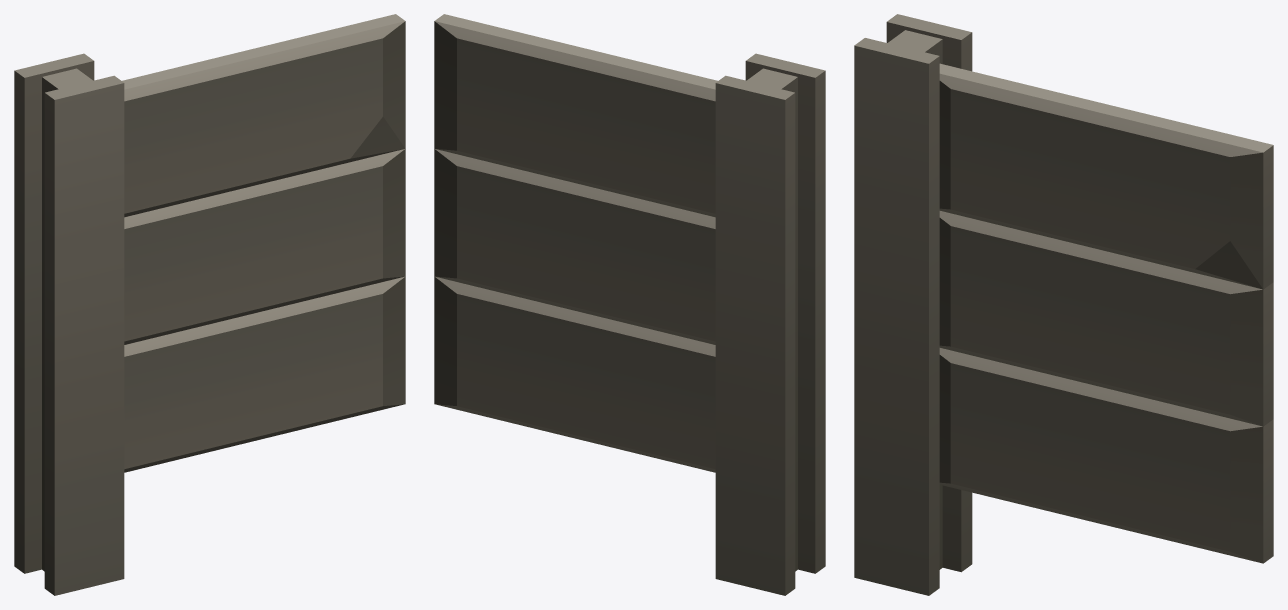
Rendered from Concrete_Fence_1A.fbx.
3 renders of one model, left to right at view 1: azimuth 30°, elevation 25°; view 2: azimuth 150°, elevation 25°; view 3: azimuth 330°, elevation 25°, orthographic. The views are drawn at different scales.
Visible parts, largest first — view 1: Concrete_Fence_1A; view 2: Concrete_Fence_1A; view 3: Concrete_Fence_1A.
Part boxes in pixels (bbox=[...]): Concrete_Fence_1A: bbox=[14, 14, 405, 595]; Concrete_Fence_1A: bbox=[434, 14, 825, 595]; Concrete_Fence_1A: bbox=[854, 14, 1273, 595].
Bounding box in the file's own units: 210 × 272 × 40.
